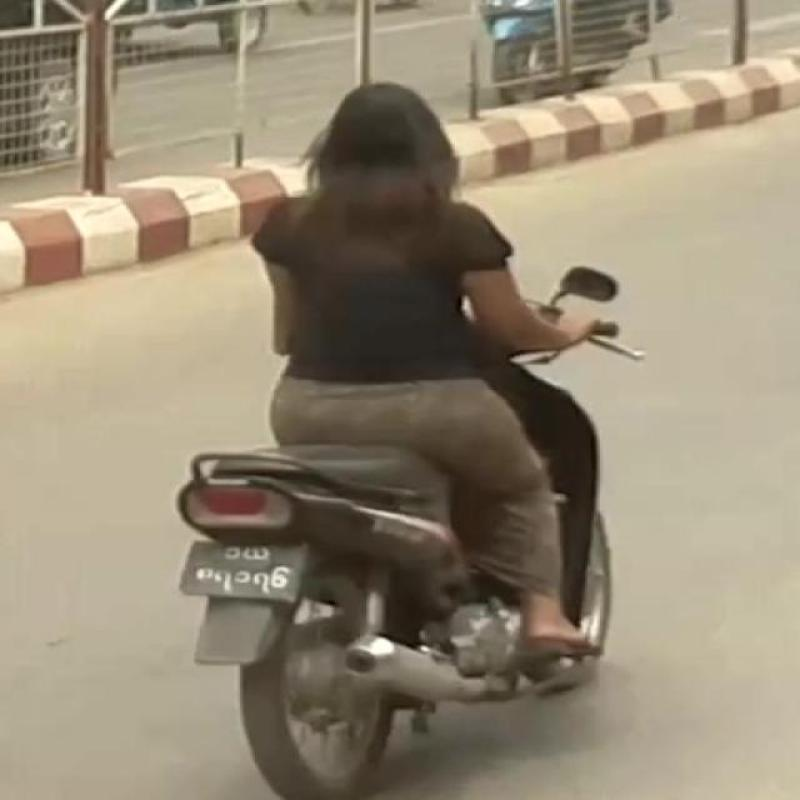nohelmet: (295, 64, 490, 233)
